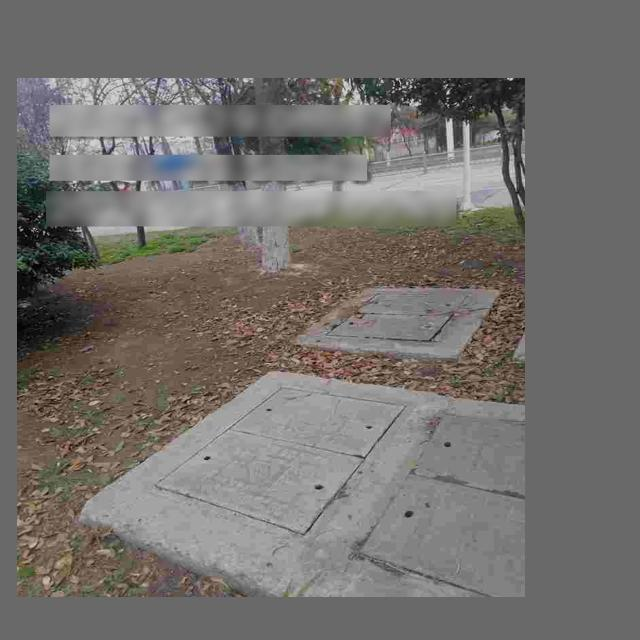good: (145, 383, 413, 543), (340, 409, 525, 597), (319, 290, 472, 346)
